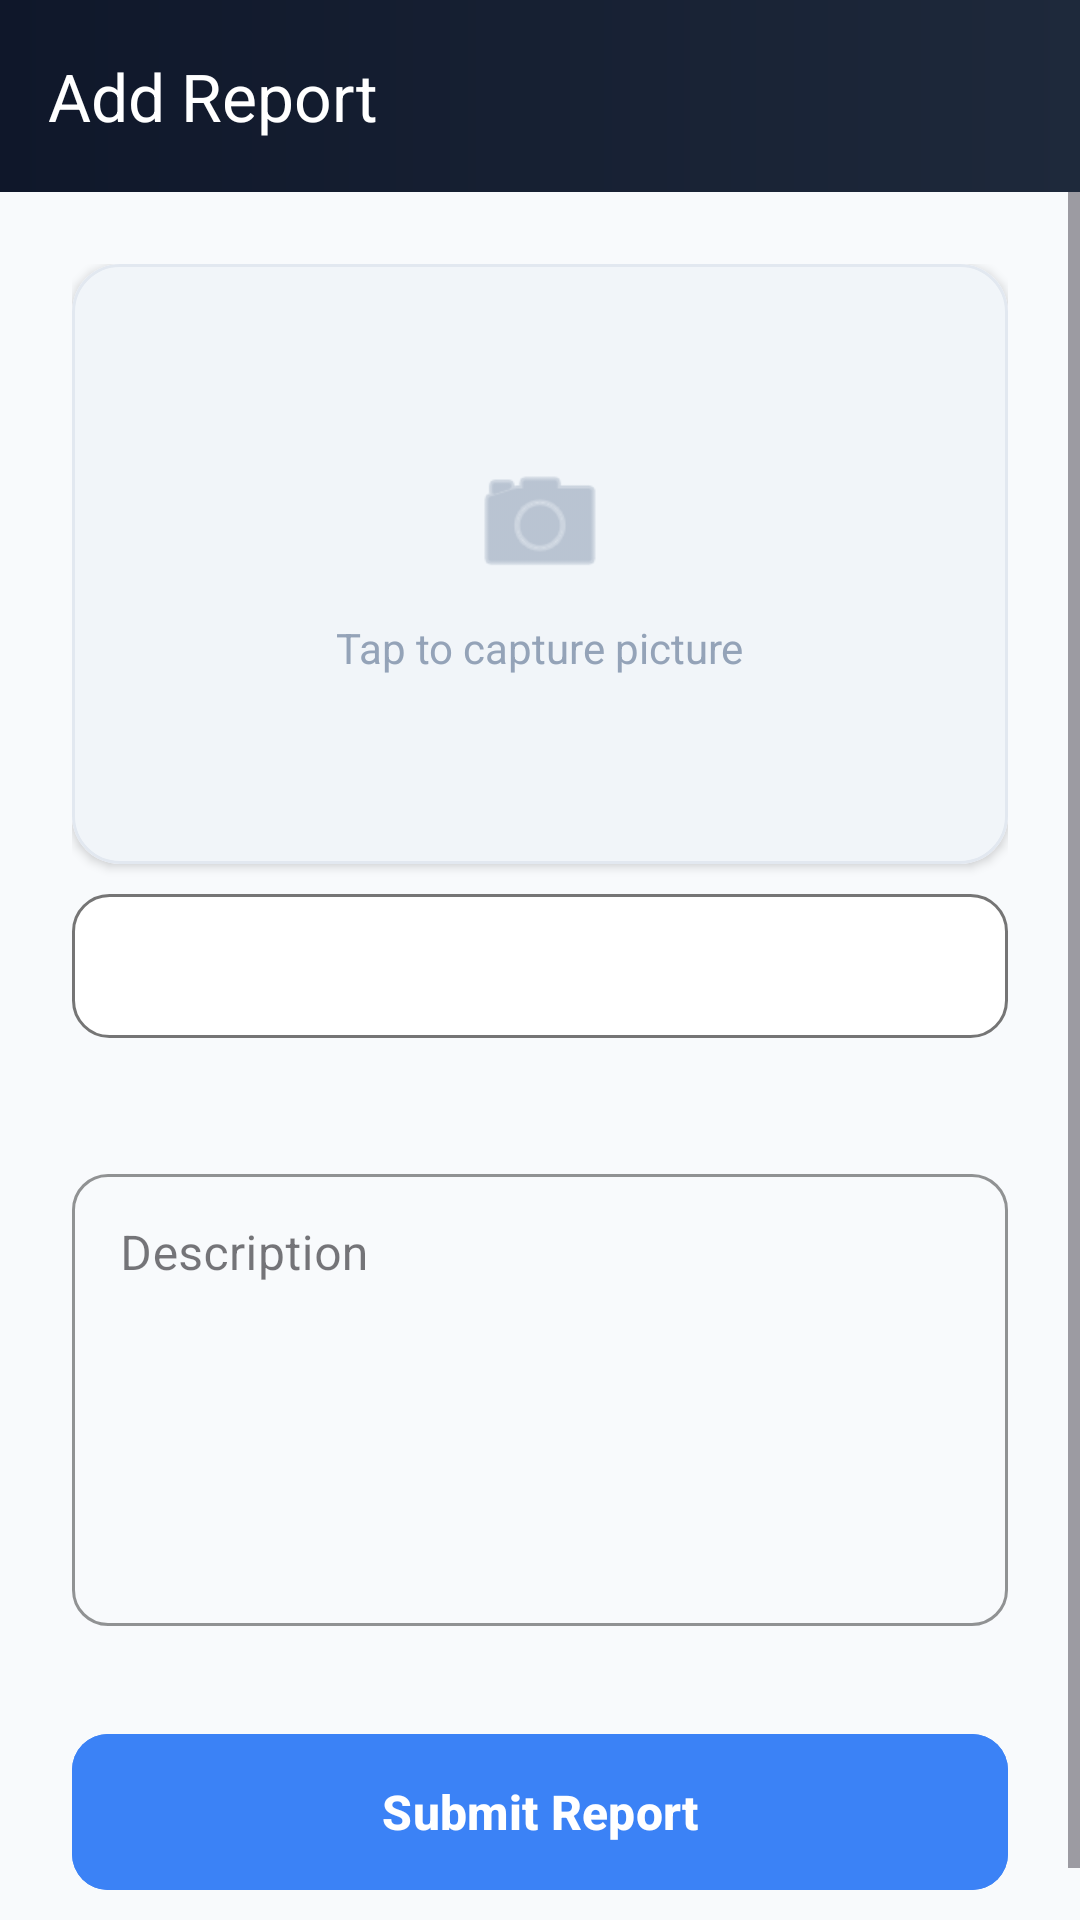

Named icons in this screenshot (1080w x 1920h) and their centers, [x,y]:
camera: [540,520]
